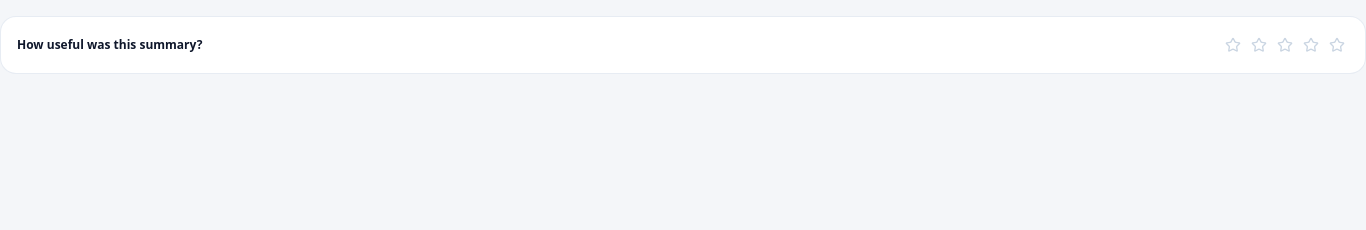
Scenario: SummaryFeedback › never claims success when saving fails, and keeps what was typed
Click the radio button named "5 of 5".
click(1337, 45)  # box [1325, 33, 1349, 57]
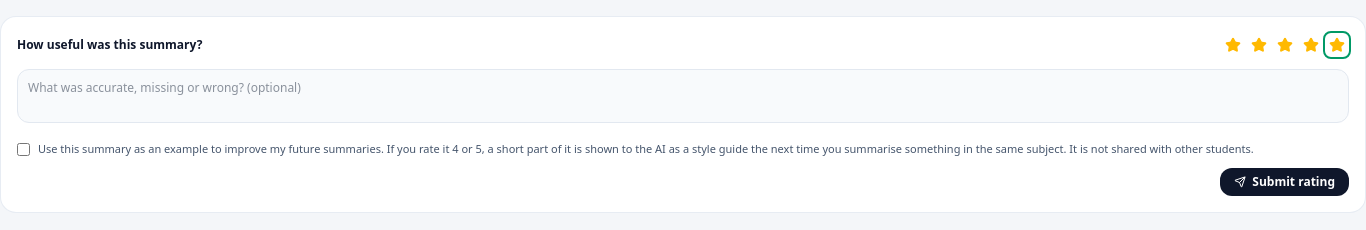
Type "Great" into the text box named "comment".
click(683, 96); type("Great")  # box [17, 69, 1349, 123]
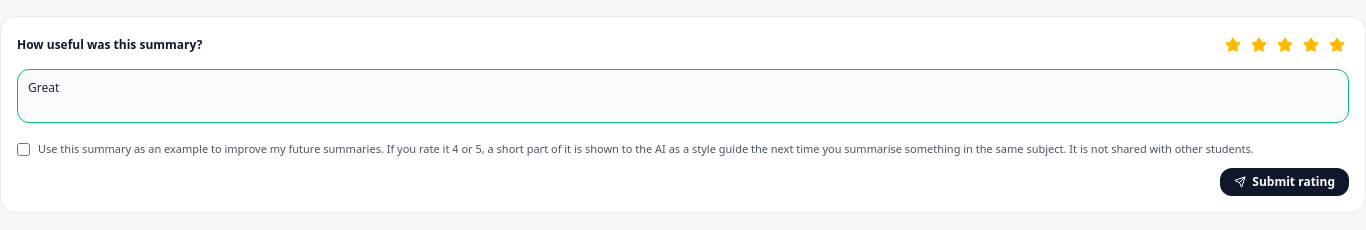
Click the button "Submit rating".
click(1285, 182)  # box [1220, 168, 1349, 196]
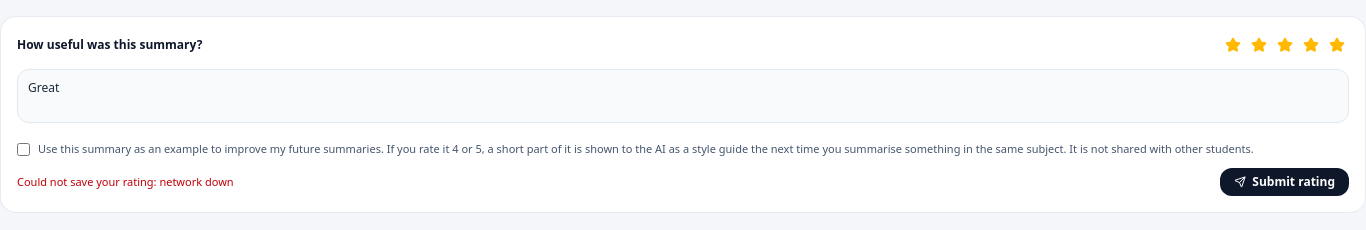
Check: the message shows "network down", box [17, 174, 234, 189]
